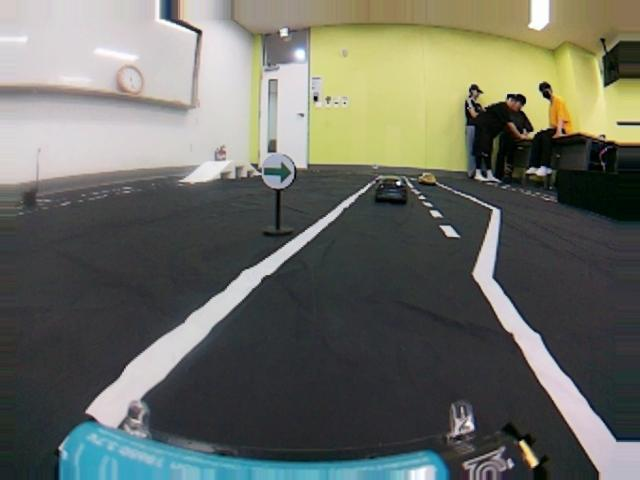car: (371, 176, 409, 206), (418, 168, 442, 188)
sign_right: (260, 152, 297, 191)
straight: (0, 188, 640, 480)
